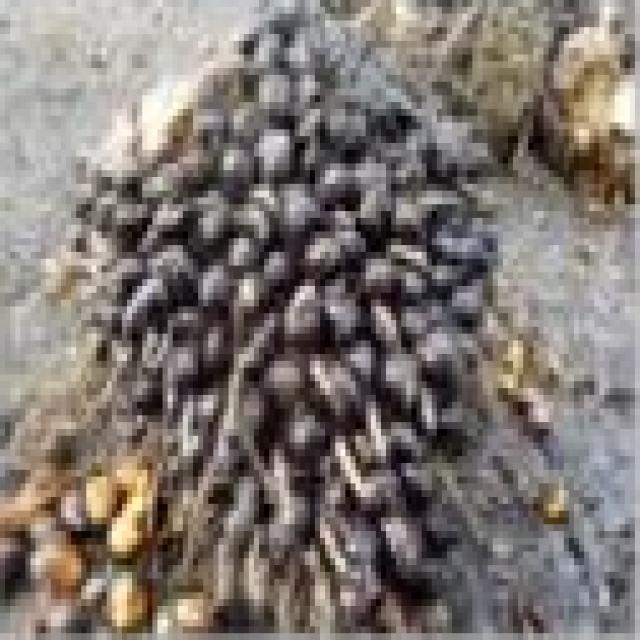FFB: (70, 19, 510, 633)
